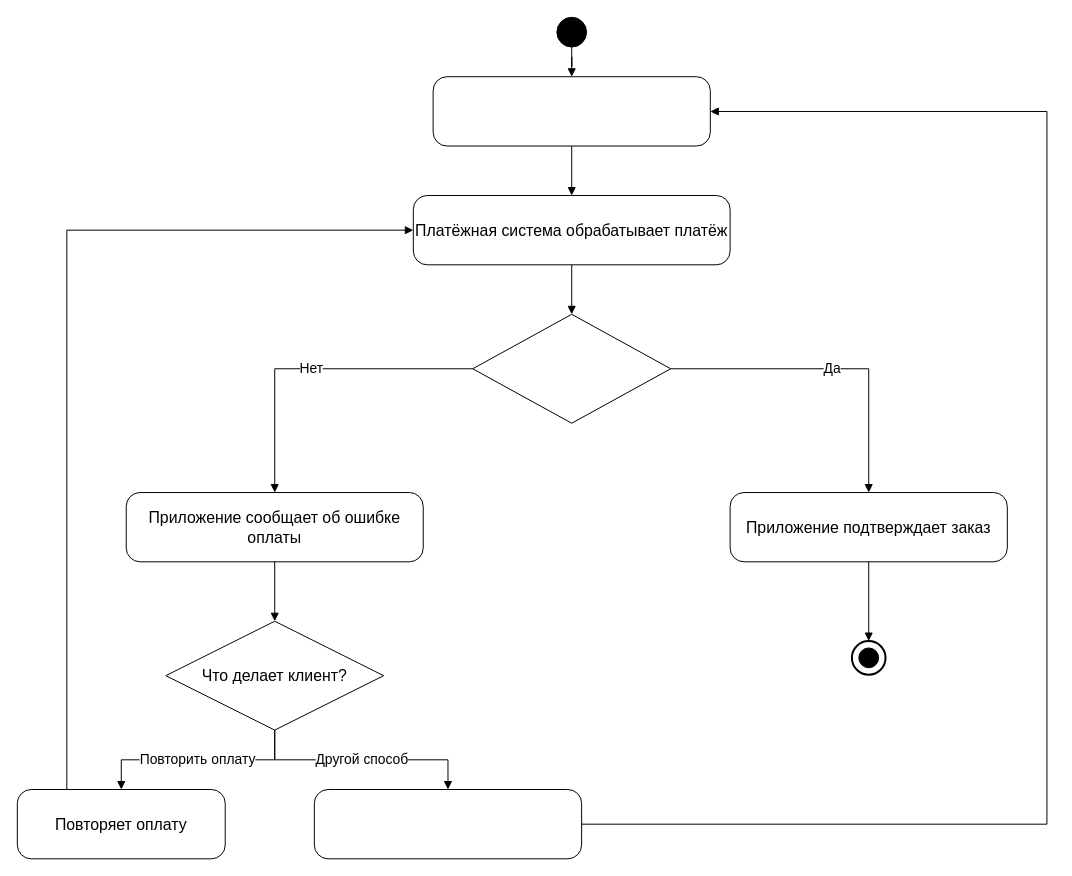
This 1072x876 diagram has some shape labels left out. The shapes that lost their labels are listed below. From the top down, each one's centre as x and y in pixels, then its label:
point (571, 111): Клиент выбирает способ оплаты
point (571, 368): Оплата успешна?
point (447, 824): Выбирает другой способ оплаты
